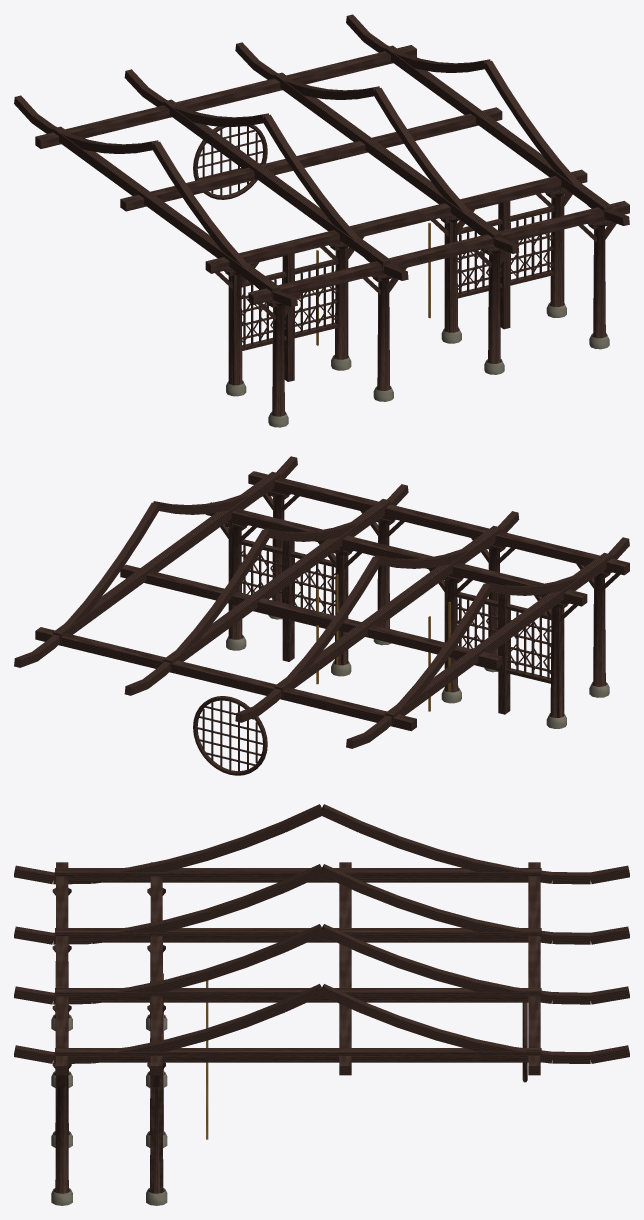
The model's file is chan_timber.glb.
3 views of the same model, one above another, from view 1: azimuth 30°, elevation 25°; view 2: azimuth 150°, elevation 25°; view 3: azimuth 270°, elevation 25° (orthographic). The views are drawn at different scales.
Parts seen in each view (by area): view 1: chan_timber0; view 2: chan_timber0; view 3: chan_timber0.
Part boxes in pixels (<box>): chan_timber0: <box>14,14,629,427</box>; chan_timber0: <box>14,456,629,775</box>; chan_timber0: <box>14,804,629,1205</box>.
Size of the model in its own units: 10.2 by 5.11 by 13.04.
1 material, 1 textured.
